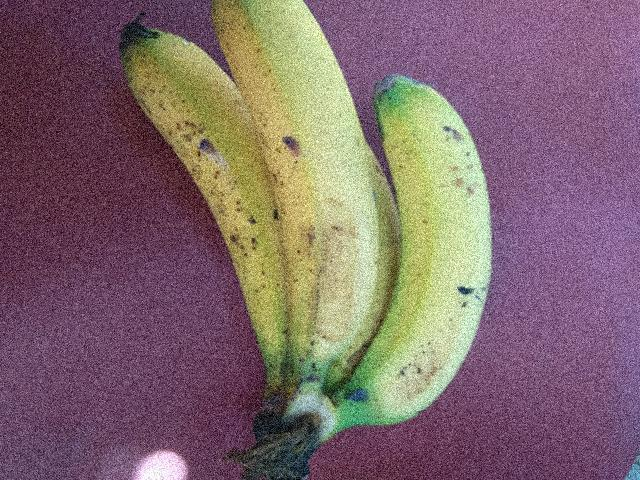ripe: (102, 23, 296, 437), (344, 63, 519, 456), (202, 0, 372, 357)
